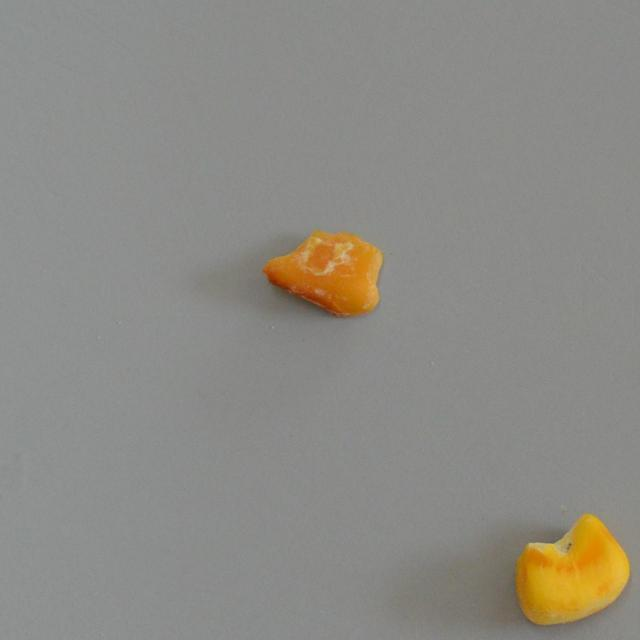dañado: (510, 507, 634, 634), (258, 226, 390, 330)
